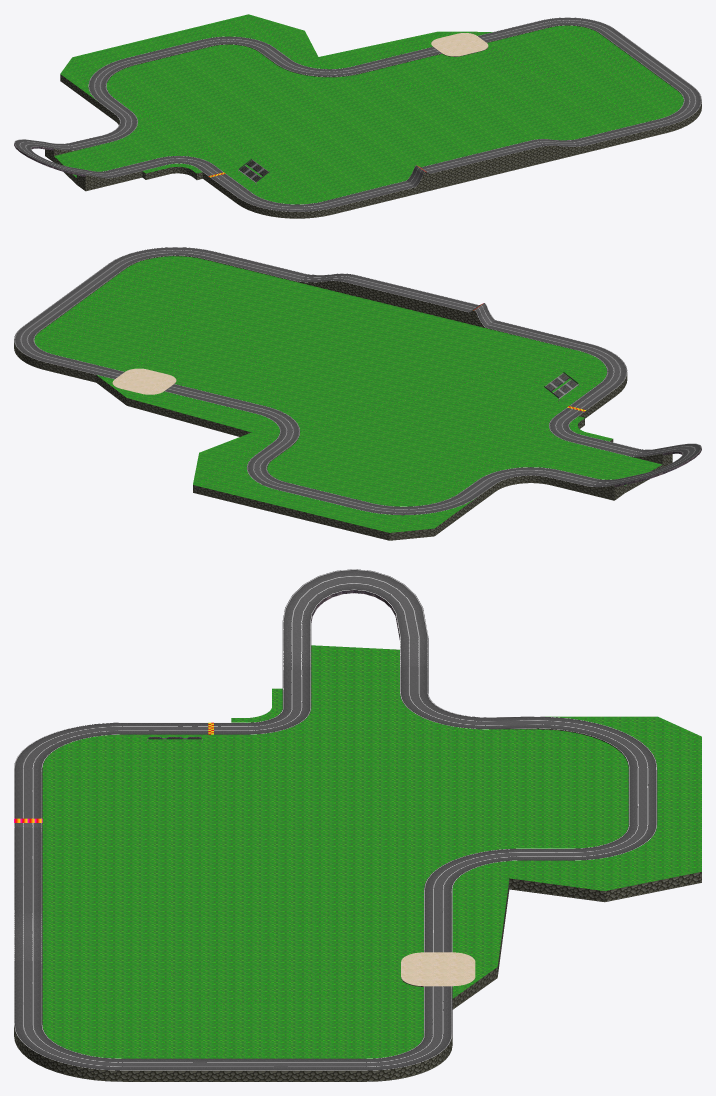
3 renders of one model, top to bottom at view 1: azimuth 30°, elevation 25°; view 2: azimuth 150°, elevation 25°; view 3: azimuth 270°, elevation 25°, orthographic. The views are drawn at different scales.
Parts seen in each view (by area): view 1: Mallons_Circuit-SKP--Grass, Mallons_Circuit-SKP--Road, Mallons_Circuit-SKP--Rock, Mallons_Circuit-SKP--Sand; view 2: Mallons_Circuit-SKP--Grass, Mallons_Circuit-SKP--Road, Mallons_Circuit-SKP--Rock, Mallons_Circuit-SKP--Sand; view 3: Mallons_Circuit-SKP--Grass, Mallons_Circuit-SKP--Road, Mallons_Circuit-SKP--Rock, Mallons_Circuit-SKP--Sand.
Boxes of the visible parts, box(x1,y1,x2,y2) form: Mallons_Circuit-SKP--Grass: box(54, 14, 683, 204); Mallons_Circuit-SKP--Road: box(14, 17, 701, 211); Mallons_Circuit-SKP--Rock: box(45, 25, 701, 218); Mallons_Circuit-SKP--Sand: box(431, 33, 488, 56); Mallons_Circuit-SKP--Grass: box(34, 256, 662, 532); Mallons_Circuit-SKP--Road: box(14, 247, 701, 515); Mallons_Circuit-SKP--Rock: box(14, 255, 672, 540); Mallons_Circuit-SKP--Sand: box(112, 368, 176, 394); Mallons_Circuit-SKP--Grass: box(42, 645, 701, 1058); Mallons_Circuit-SKP--Road: box(14, 569, 657, 1070); Mallons_Circuit-SKP--Rock: box(14, 728, 701, 1081); Mallons_Circuit-SKP--Sand: box(401, 952, 475, 986).
Size of what is drawn, in the model's own units: 94939 by 5209 by 60180.
Materials: 12 (12 with a texture image).
